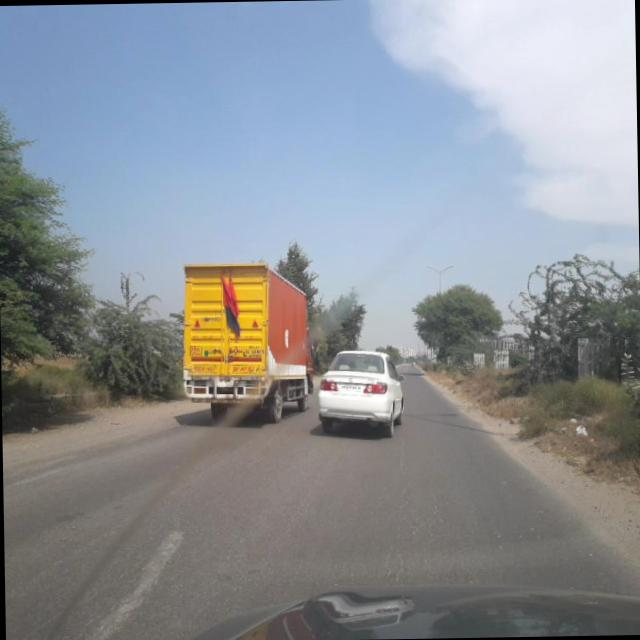crack: (345, 454, 506, 576)
